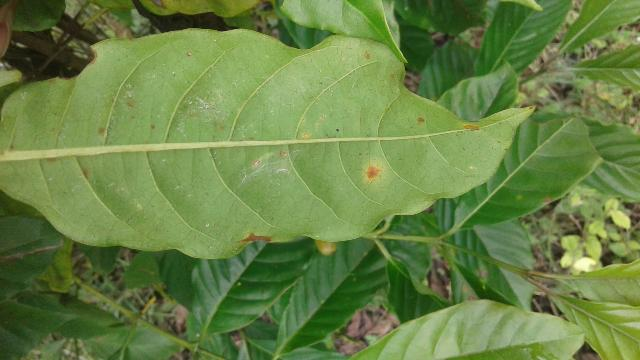rust_level_1: (0, 23, 546, 262)
